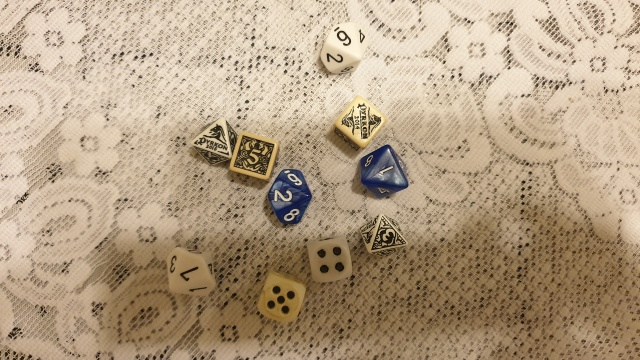d10-1: (357, 144, 410, 202)
d10-2: (263, 168, 315, 226)
d10-6: (312, 17, 370, 76)
d10-7: (158, 240, 222, 305)
d6-4: (302, 234, 356, 285)
d6-5: (251, 270, 310, 323)
d6p-1: (336, 94, 387, 151)
d6p-5: (226, 128, 278, 183)
d8p-1: (184, 117, 236, 168)
d8p-3: (354, 210, 409, 259)
